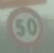limite 50: (1, 1, 53, 52)
